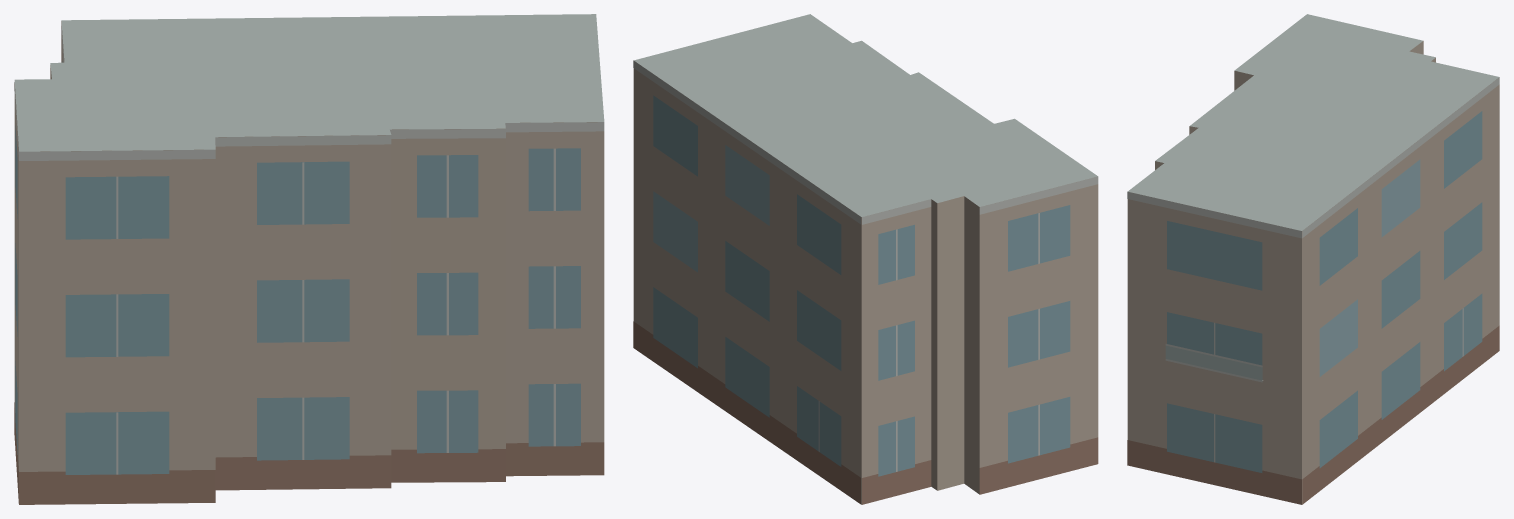
The model's file is survey-upis-32622291.glb.
The picture shows the model from 3 angles, left to right: view 1: azimuth 30°, elevation 25°; view 2: azimuth 150°, elevation 25°; view 3: azimuth 270°, elevation 25°; orthographic projection. The views are drawn at different scales.
Visible parts, largest first — view 1: survey-upis-32622291.tmp; view 2: survey-upis-32622291.tmp; view 3: survey-upis-32622291.tmp.
Boxes of the visible parts, x1,y1,x2,y2 form: survey-upis-32622291.tmp: (14,14,604,504); survey-upis-32622291.tmp: (633,14,1098,504); survey-upis-32622291.tmp: (1127,14,1499,504).
Size of the model in its own units: 15.48 by 9.1 by 11.21.
